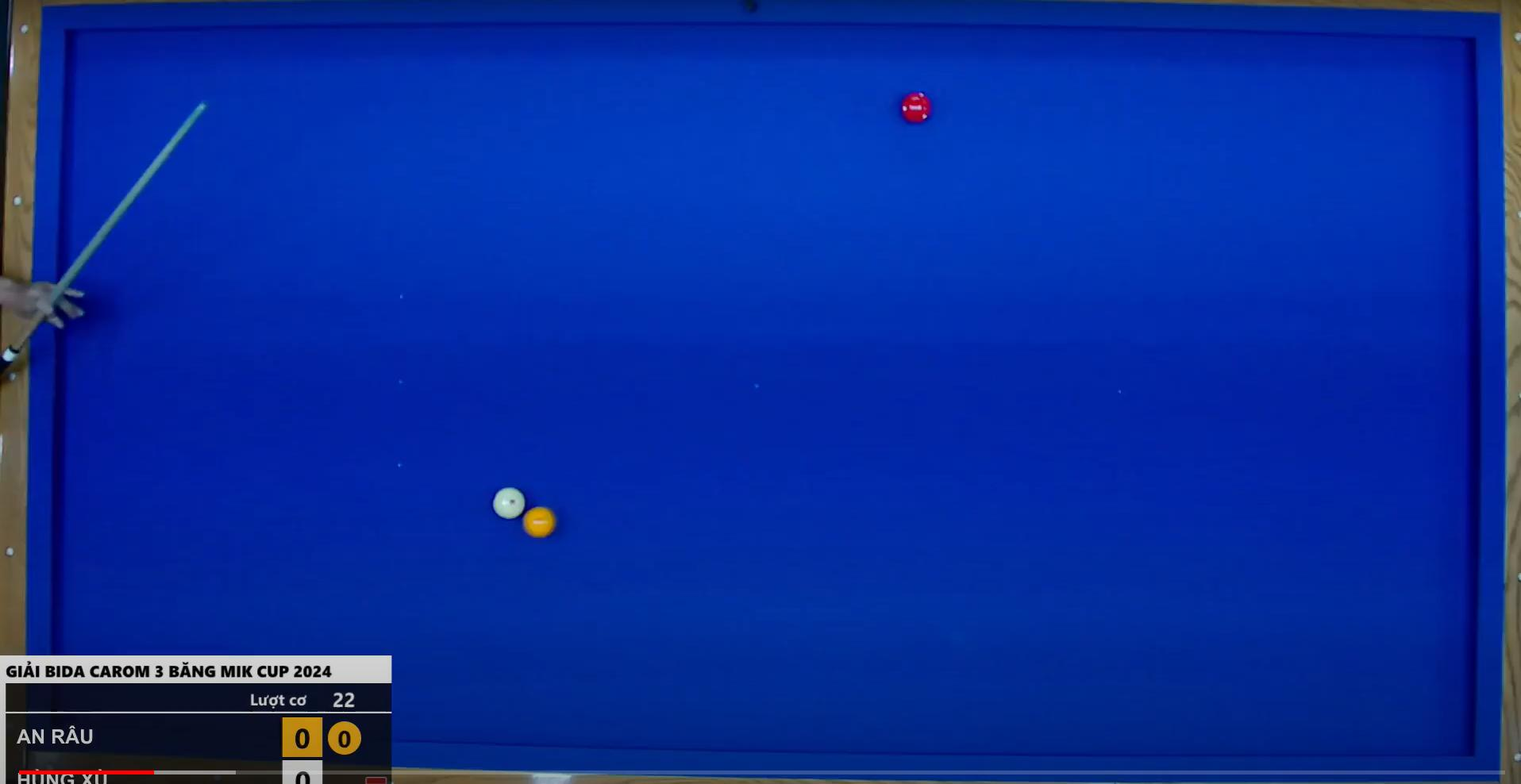red ball: (895, 88, 936, 129)
white ball: (488, 482, 529, 524)
yellow ball: (522, 504, 563, 541)
